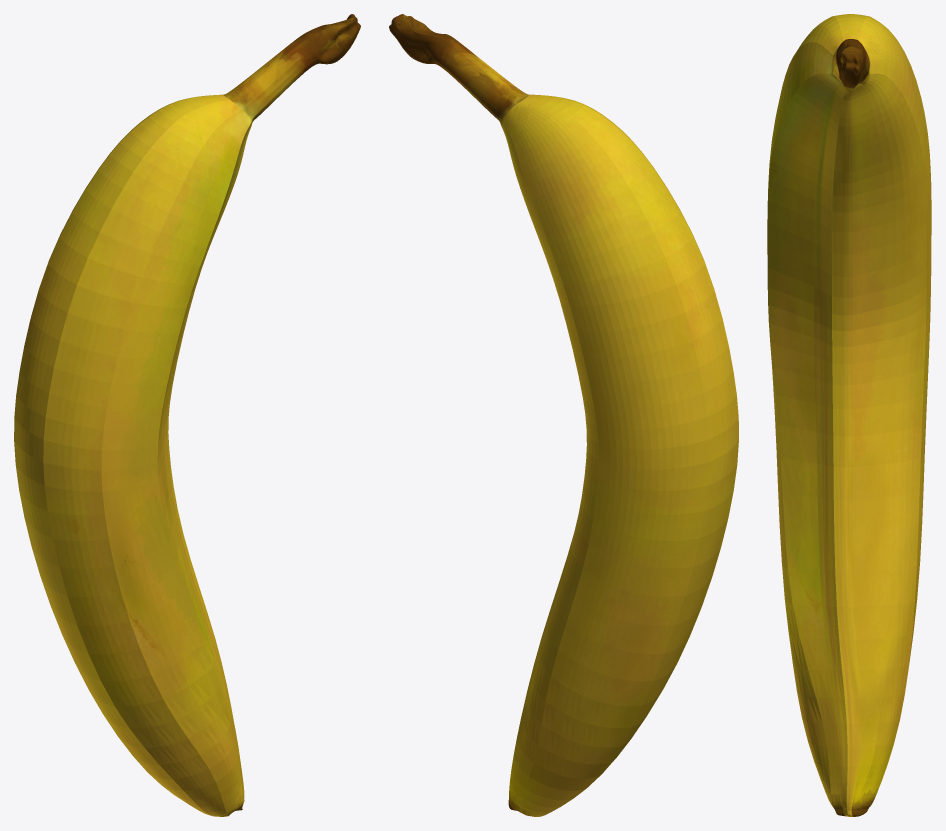
File: banana_only.obj
3 views of the same model, side by side, from view 1: azimuth 30°, elevation 25°; view 2: azimuth 150°, elevation 25°; view 3: azimuth 270°, elevation 25° (orthographic). The views are drawn at different scales.
Visible parts, largest first — view 1: Banana; view 2: Banana; view 3: Banana.
Boxes of the visible parts, x1=… form: Banana: x1=14, y1=14, x2=360, y2=816; Banana: x1=389, y1=14, x2=738, y2=816; Banana: x1=767, y1=14, x2=931, y2=816.
Size of the model in its own units: 0.8355 by 1.82 by 0.3278.
Materials: 1 (1 with a texture image).
